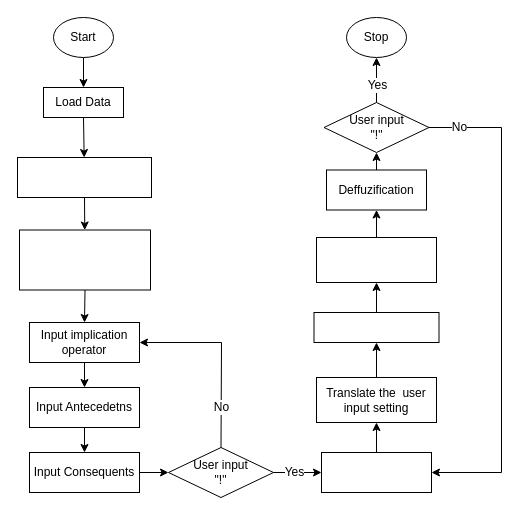
Some shapes in this 527 by 515 pixel diagram are drawn without their labels. Here are the shapes that lost their labels. From the top down, the centre of each, then its label:
At point (84, 177): "Define Membership function for Antecedents".
At point (84, 259): "Define Consequent membership functions".
At point (376, 259): "Agregate consequents".
At point (376, 327): "Get the fuzzy output".
At point (376, 472): "Input Features".
